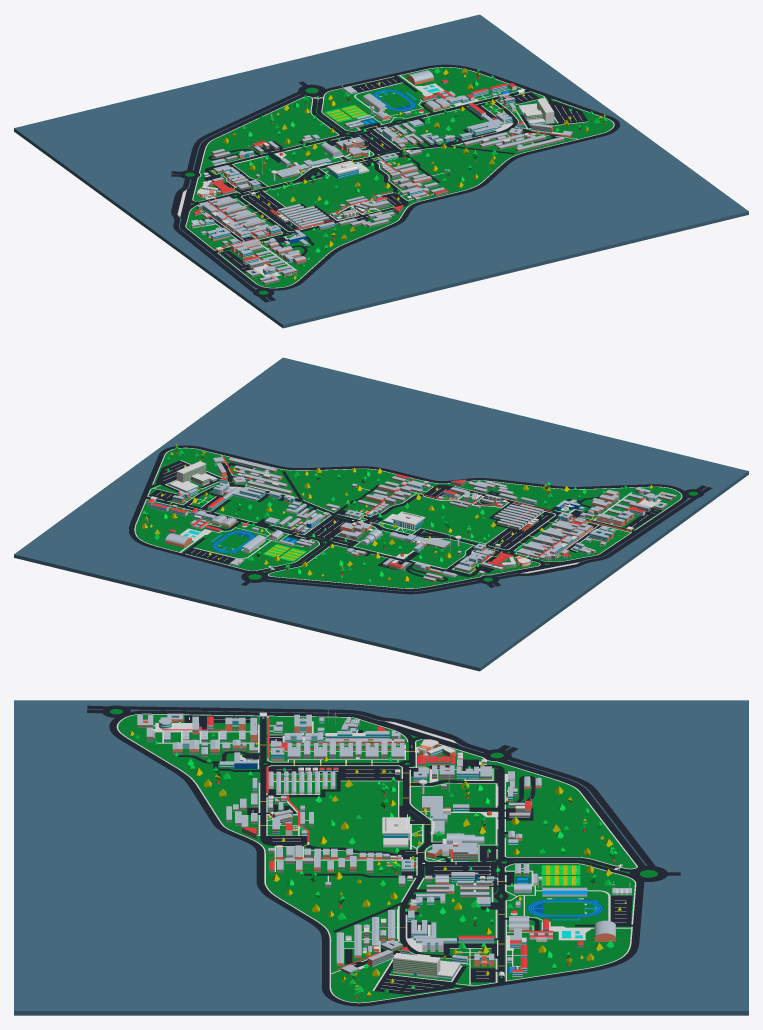
3 views of the same model, one above another, from view 1: azimuth 30°, elevation 25°; view 2: azimuth 150°, elevation 25°; view 3: azimuth 270°, elevation 25° (orthographic). The views are drawn at different scales.
Visible parts, largest first — view 1: mebase, Plane, mecmjpEstacionamento - CCHLA - CE - CCSA - Central de Aulas, emcmjpufhu001; view 2: mebase, Plane, emcmjpufhu001, mecmjpEstacionamento - CCHLA - CE - CCSA - Central de Aulas; view 3: mebase, Plane, emcmjpufhu001, mecmjpEstacionamento - CCHLA - CE - CCSA - Central de Aulas, meroad2s7.113, meroad1.034, mecmjpbibc001 Biblioteca Central, mecmjpesp2 Centro Esportivo - Pista de atletismo, meroad1.023, meroad1.007, mecmjpreit001 Reitoria, mecmjpEstacionamento - Reitoria (+8 smaller).
Part boxes in pixels (left/top/right/bottom): mebase: left=14, top=14, right=748, bottom=328; Plane: left=186, top=67, right=613, bottom=288; mecmjpEstacionamento - CCHLA - CE - CCSA - Central de Aulas: left=242, top=191, right=300, bottom=231; emcmjpufhu001: left=518, top=98, right=554, bottom=125; mebase: left=14, top=357, right=748, bottom=671; Plane: left=135, top=448, right=681, bottom=588; emcmjpufhu001: left=169, top=461, right=217, bottom=492; mecmjpEstacionamento - CCHLA - CE - CCSA - Central de Aulas: left=486, top=512, right=554, bottom=549; mebase: left=14, top=700, right=748, bottom=1015; Plane: left=118, top=714, right=636, bottom=1003; emcmjpufhu001: left=393, top=953, right=460, bottom=978; mecmjpEstacionamento - CCHLA - CE - CCSA - Central de Aulas: left=268, top=766, right=400, bottom=780; meroad2s7.113: left=378, top=975, right=455, bottom=994; meroad1.034: left=124, top=706, right=347, bottom=712; mecmjpbibc001 Biblioteca Central: left=382, top=817, right=409, bottom=847; mecmjpesp2 Centro Esportivo - Pista de atletismo: left=527, top=898, right=603, bottom=920; meroad1.023: left=376, top=970, right=579, bottom=1004; meroad1.007: left=260, top=716, right=266, bottom=831; mecmjpreit001 Reitoria: left=426, top=839, right=477, bottom=861; mecmjpEstacionamento - Reitoria: left=425, top=864, right=496, bottom=875.
Size of the model in its own units: 19.77 by 0.8625 by 19.77.
